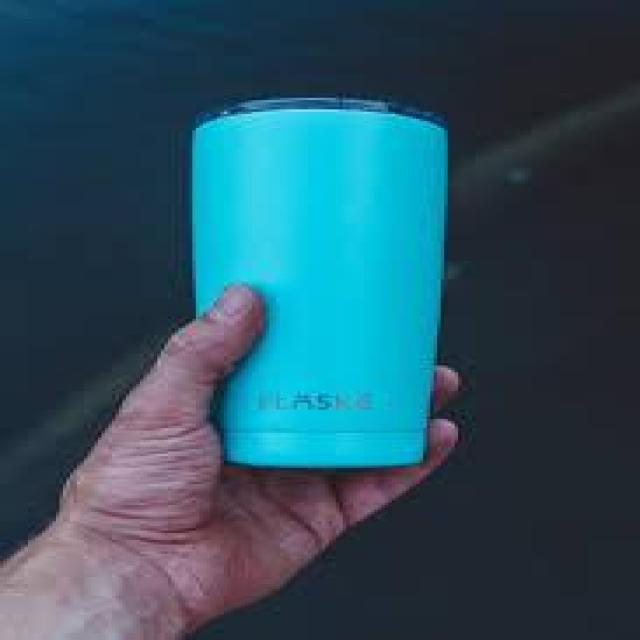bottle: (190, 96, 450, 466)
